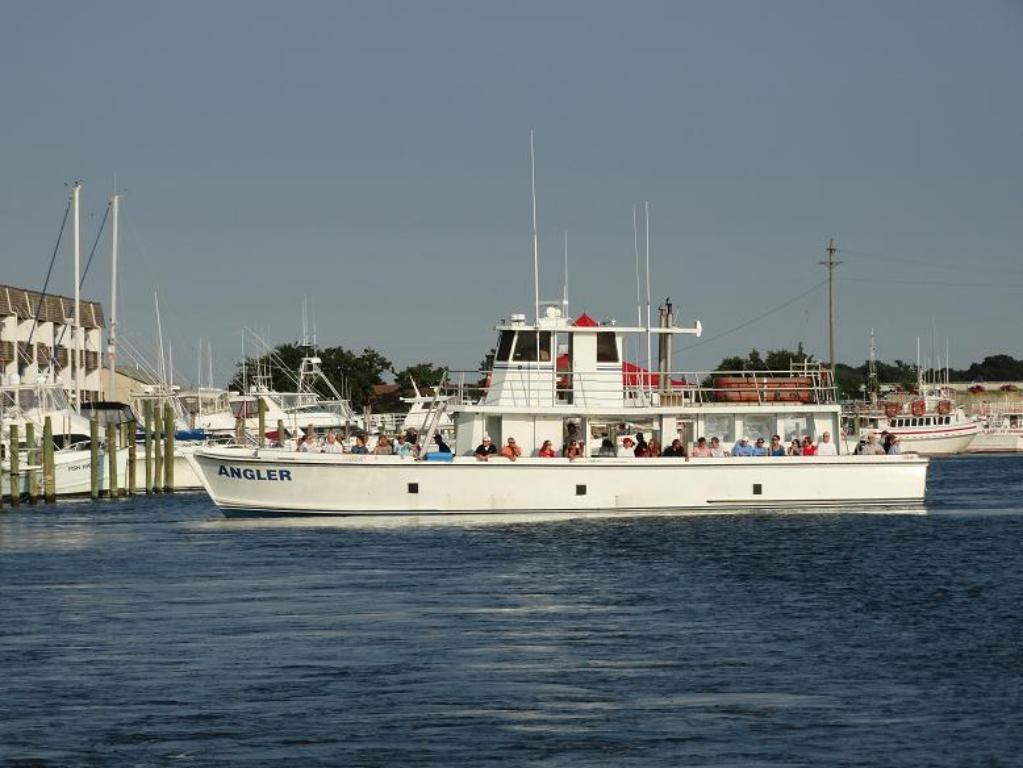PassengerShip: (180, 258, 932, 528)
